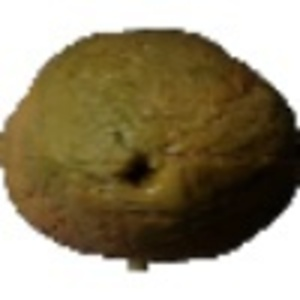mamão: (1, 17, 297, 259)
